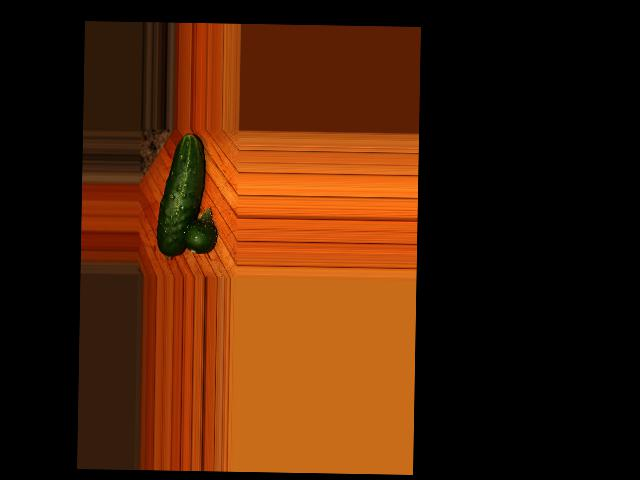cucumber: (156, 132, 205, 257)
